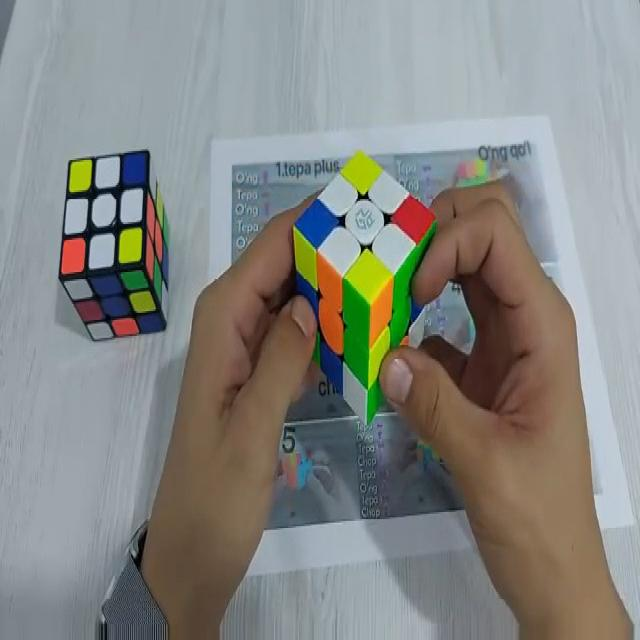Rub: (289, 147, 437, 427), (60, 150, 168, 341)
